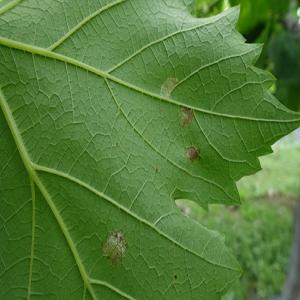Folha: (0, 0, 299, 299)
Fungo: (101, 228, 128, 266), (159, 76, 179, 98), (184, 144, 202, 163), (178, 105, 193, 127)
